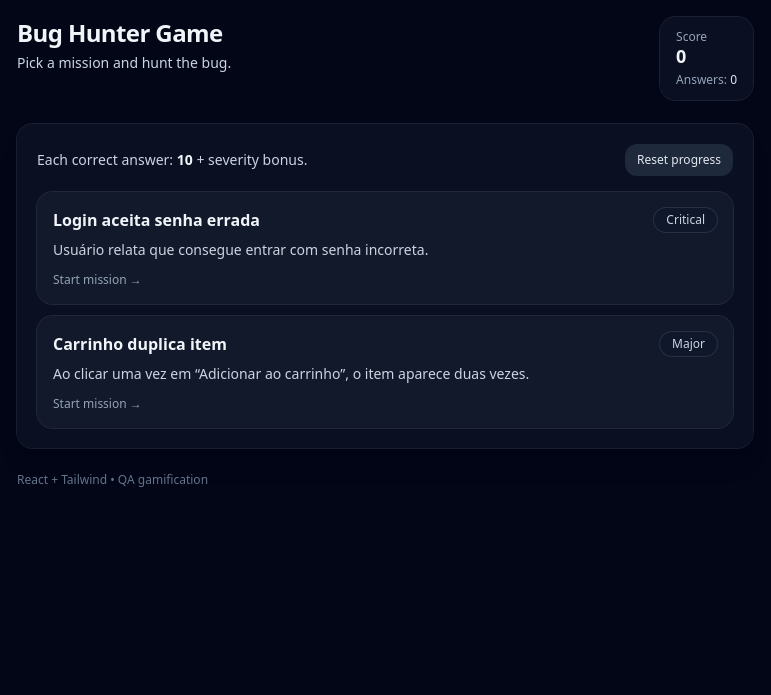
it: Bug Hunter Game - main flow › plays mission M1 and shows result
Step 1. Click the link with test id "mission-card-M1" → (385, 248), box top-left (37, 192), bottom-right (733, 304)
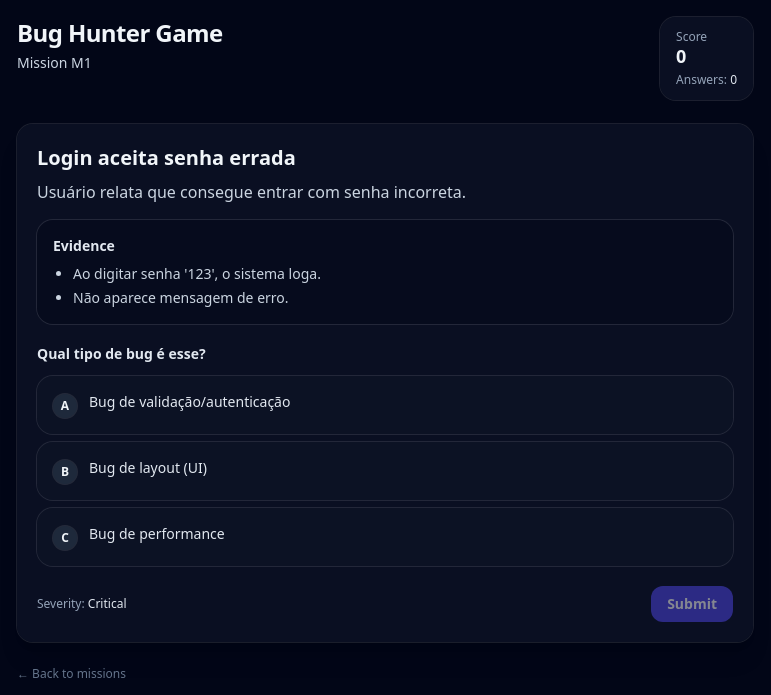
Note: seleciona opção A (ajuste se sua missão M1 tiver outra correta)
Step 2. Click the button with test id "option-A" → (190, 401), box top-left (37, 376), bottom-right (733, 434)
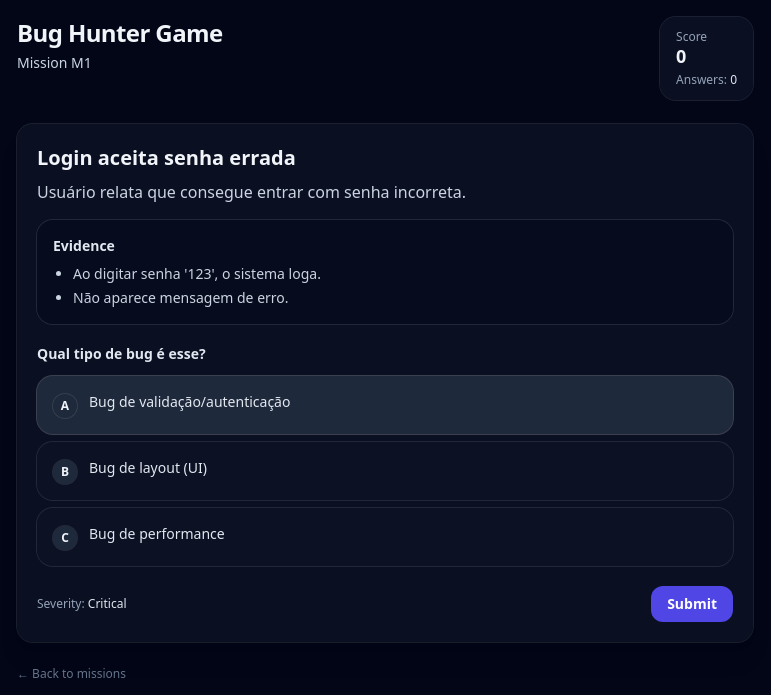
Step 3. Click the button with test id "submit-answer" → (692, 604), box top-left (651, 586), bottom-right (733, 622)
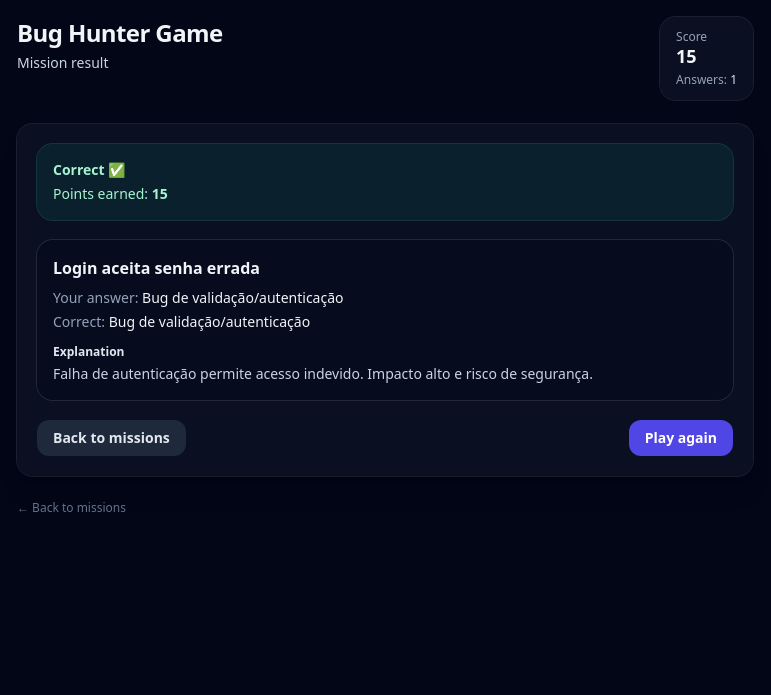
Expected: the element with test id "result-card" is shown, top-left (37, 144), bottom-right (733, 220)
Expected: the element with test id "points-earned" shows "Points earned", top-left (53, 184), bottom-right (152, 203)
